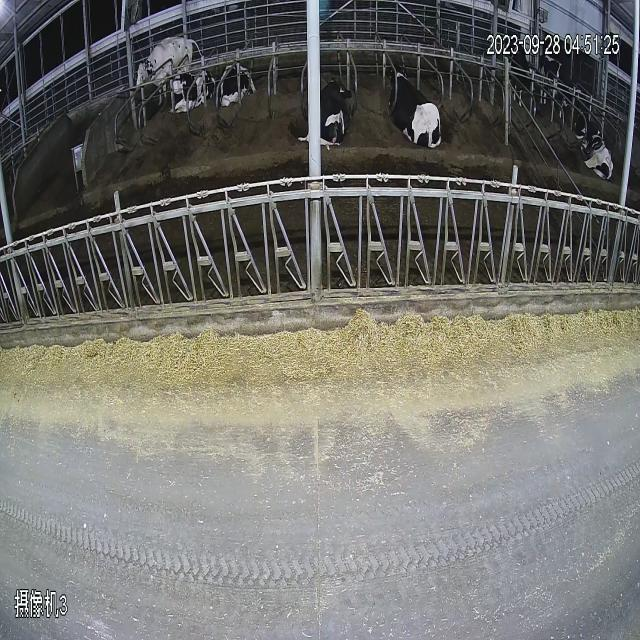lying down: (384, 52, 446, 158), (314, 64, 358, 163), (576, 109, 618, 192), (216, 46, 258, 126), (172, 70, 216, 120)
standing: (501, 26, 582, 118), (134, 24, 186, 96)
